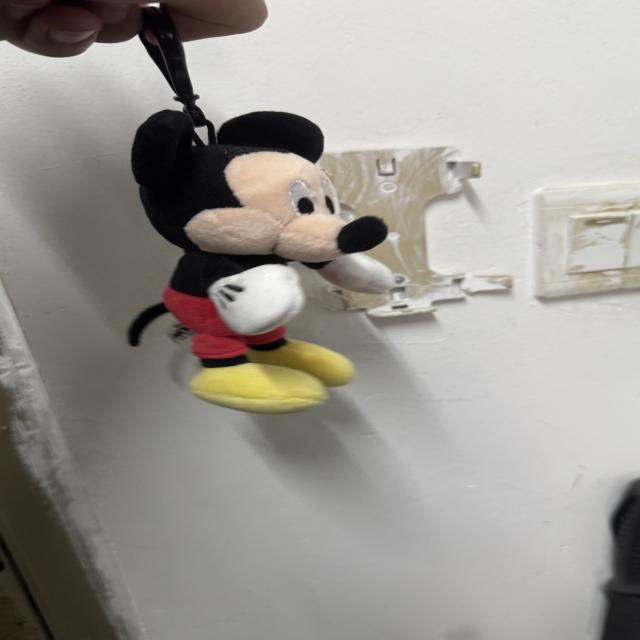mickey: (133, 111, 393, 413)
